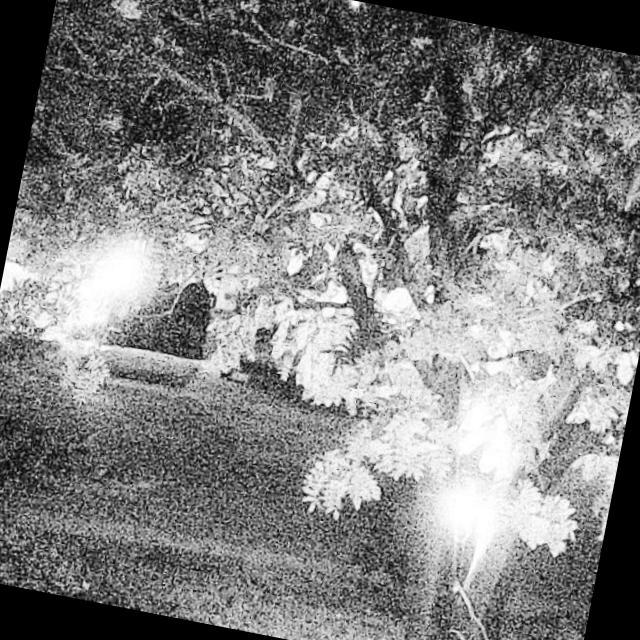Tree: (217, 0, 640, 640)
